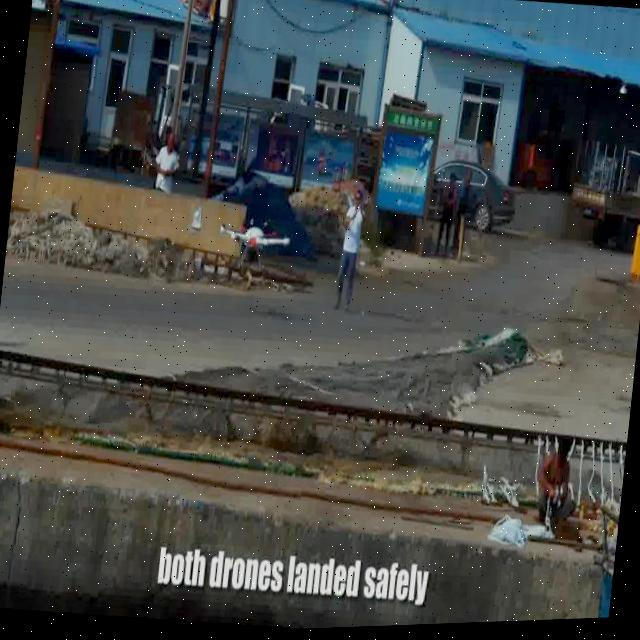drone: (216, 211, 290, 270)
